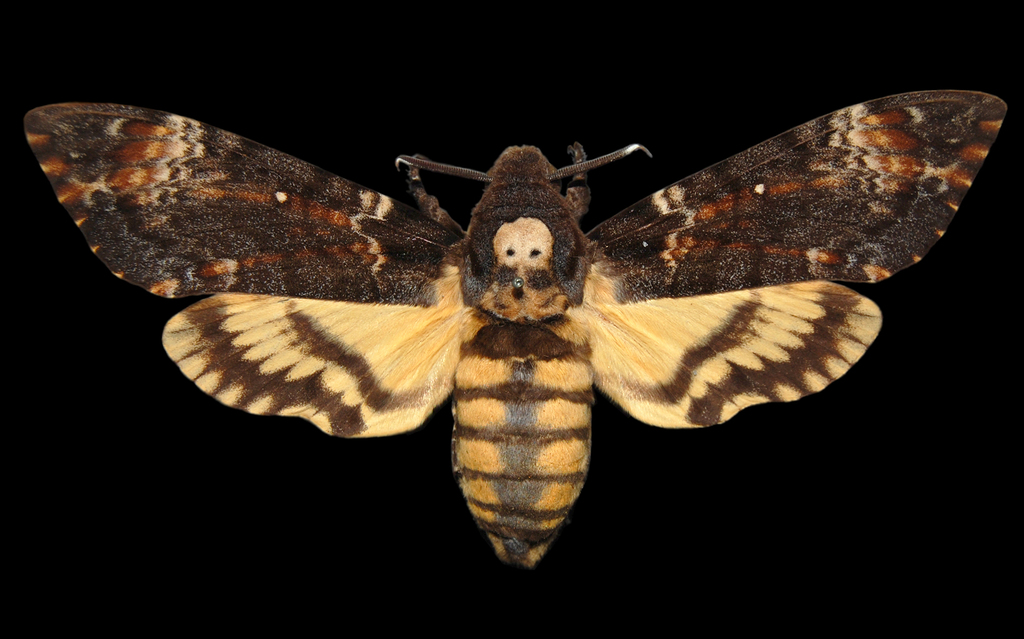Butterfly: (18, 63, 1013, 589)
